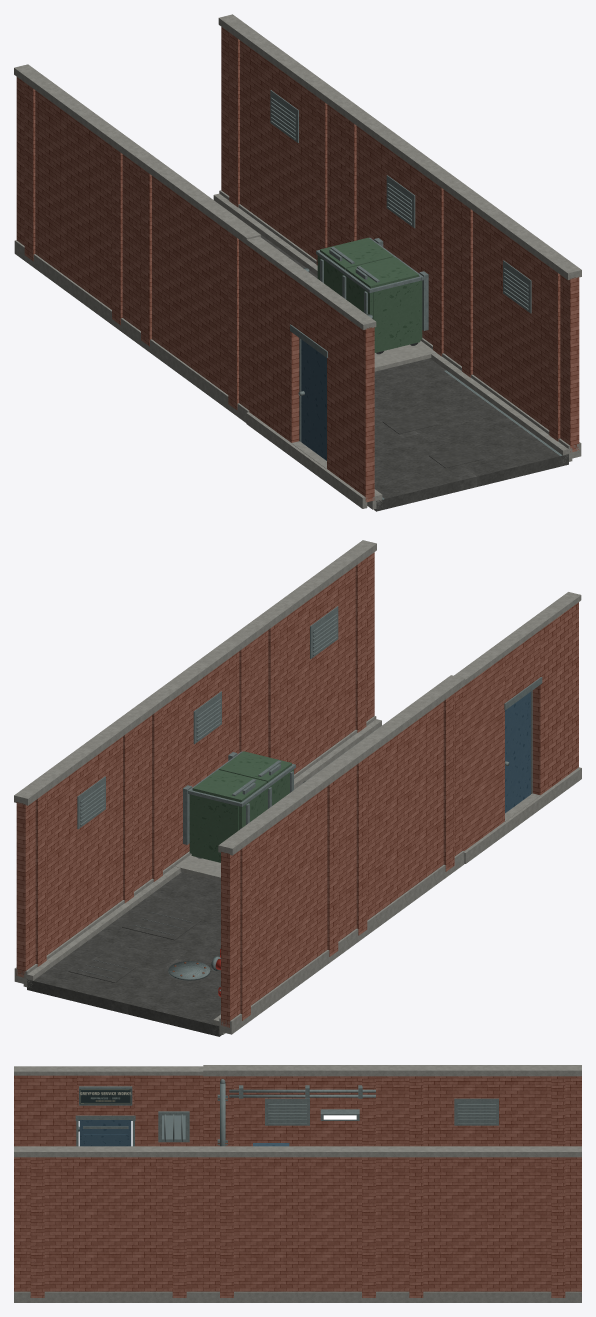
File: PROJECT_Z_UrbanAlley_ServiceKit.glb
3 views of the same model, one above another, from view 1: azimuth 30°, elevation 25°; view 2: azimuth 150°, elevation 25°; view 3: azimuth 270°, elevation 25° (orthographic). The views are drawn at different scales.
Parts seen in each view (by area): view 1: WallR_BrickWall_Main, WallL_BrickWall_Main, UtilitiesWall_BrickWall_Main, A_Roadbed, WallR_End_BrickWall_Main, DumpsterBay_Backwall_BrickWall_Main, ServiceDoor_BrickPier_A, ServiceDoor_BrickPier_B, Dumpster_OuterWall_Front, ServiceDoor_Leaf_Main, WallR_Coping, UtilitiesWall_Coping (+31 smaller); view 2: WallL_BrickWall_Main, WallR_End_BrickWall_Main, UtilitiesWall_BrickWall_Main, WallR_BrickWall_Main, C_Roadbed, DumpsterBay_Backwall_BrickWall_Main, ServiceDoor_BrickPier_A, ServiceDoor_BrickPier_B, ServiceDoor_Leaf_Main, WallR_End_Coping, WallL_Coping, DumpsterBay_Backwall_Coping (+32 smaller); view 3: WallR_BrickWall_Main, WallR_End_BrickWall_Main, DumpsterBay_Backwall_BrickWall_Main, WallL_BrickWall_Main, UtilitiesWall_BrickWall_Main, ServiceDoor_BrickPier_A, ServiceDoor_BrickPier_B, DumpsterBay_Backwall_Coping, UtilitiesWall_Coping, WallL_Coping, WallR_Coping, WallR_End_Coping (+26 smaller).
Boxes of the visible parts, box(x1,y1,x2,y2) form: WallR_BrickWall_Main: box(454, 197, 579, 452); WallL_BrickWall_Main: box(16, 77, 132, 324); UtilitiesWall_BrickWall_Main: box(133, 162, 249, 409); A_Roadbed: box(374, 371, 568, 511); WallR_End_BrickWall_Main: box(221, 27, 337, 259); DumpsterBay_Backwall_BrickWall_Main: box(337, 112, 453, 360); ServiceDoor_BrickPier_A: box(327, 304, 374, 502); ServiceDoor_BrickPier_B: box(249, 247, 299, 442); Dumpster_OuterWall_Front: box(373, 281, 418, 351); ServiceDoor_Leaf_Main: box(301, 339, 326, 460); WallR_Coping: box(451, 185, 581, 279); UtilitiesWall_Coping: box(130, 149, 260, 244); WallL_BrickWall_Main: box(221, 773, 346, 1027); WallR_End_BrickWall_Main: box(16, 722, 141, 977); UtilitiesWall_BrickWall_Main: box(346, 687, 462, 935); WallR_BrickWall_Main: box(258, 552, 374, 774); C_Roadbed: box(27, 896, 221, 1036); DumpsterBay_Backwall_BrickWall_Main: box(142, 637, 258, 885); ServiceDoor_BrickPier_A: box(532, 602, 578, 795); ServiceDoor_BrickPier_B: box(462, 656, 504, 850); ServiceDoor_Leaf_Main: box(505, 692, 530, 813); WallR_End_Coping: box(14, 710, 144, 805); WallL_Coping: box(218, 760, 348, 855); DumpsterBay_Backwall_Coping: box(131, 625, 260, 720); WallR_BrickWall_Main: box(14, 1157, 203, 1291); WallR_End_BrickWall_Main: box(392, 1157, 581, 1291); DumpsterBay_Backwall_BrickWall_Main: box(203, 1157, 392, 1291); WallL_BrickWall_Main: box(392, 1076, 581, 1146); UtilitiesWall_BrickWall_Main: box(203, 1076, 392, 1146); ServiceDoor_BrickPier_A: box(14, 1075, 76, 1146); ServiceDoor_BrickPier_B: box(134, 1075, 203, 1146); DumpsterBay_Backwall_Coping: box(203, 1146, 392, 1157); UtilitiesWall_Coping: box(203, 1065, 392, 1076); WallL_Coping: box(392, 1065, 581, 1076); WallR_Coping: box(14, 1146, 203, 1157); WallR_End_Coping: box(392, 1146, 581, 1157).
Size of the model in its own units: 4.35 by 3.63 by 12.
Materials: 14 (9 with a texture image).
